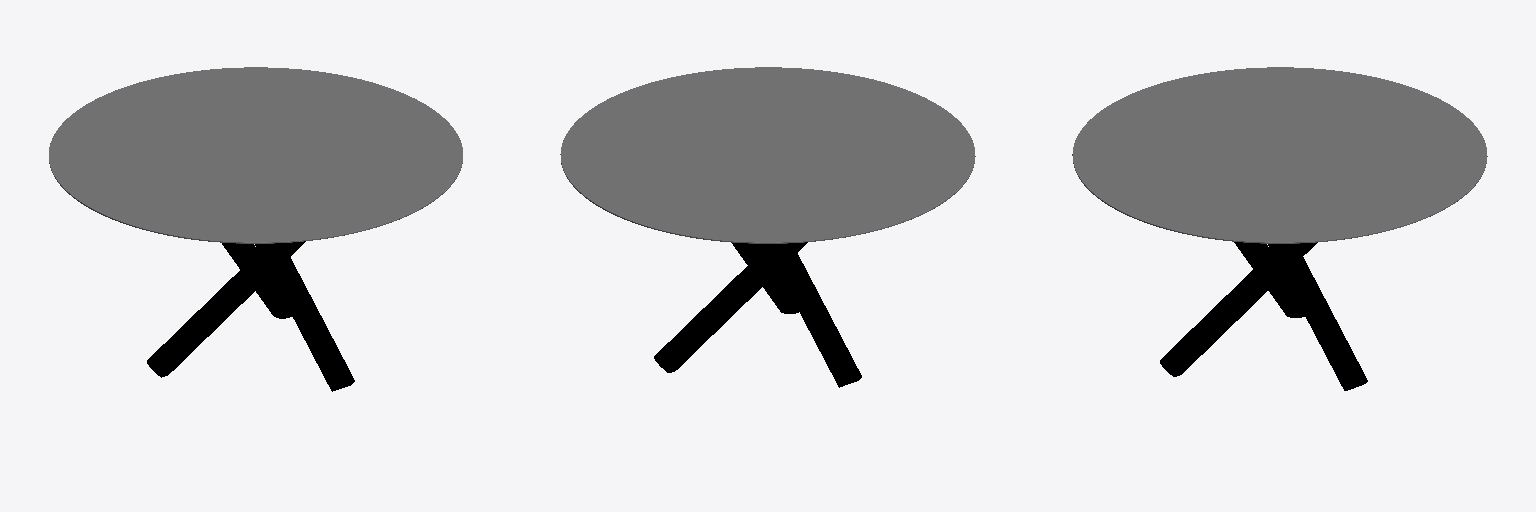
File: table.obj
The picture shows the model from 3 angles: view 1: azimuth 30°, elevation 25°; view 2: azimuth 150°, elevation 25°; view 3: azimuth 270°, elevation 25°; orthographic projection.
Parts seen in each view (by area): view 1: Circle012_Mesh.006, Circle005_Mesh.003, Circle003_Mesh.005, Circle004_Mesh.004; view 2: Circle012_Mesh.006, Circle004_Mesh.004, Circle005_Mesh.003, Circle003_Mesh.005; view 3: Circle012_Mesh.006, Circle003_Mesh.005, Circle004_Mesh.004, Circle005_Mesh.003.
Part boxes in pixels (x1,y1,x2,y2): Circle012_Mesh.006: (49, 67, 462, 243); Circle005_Mesh.003: (147, 241, 305, 377); Circle003_Mesh.005: (255, 244, 354, 391); Circle004_Mesh.004: (222, 243, 291, 318); Circle012_Mesh.006: (560, 67, 975, 243); Circle004_Mesh.004: (654, 242, 807, 372); Circle005_Mesh.003: (764, 244, 861, 387); Circle003_Mesh.005: (732, 243, 798, 313); Circle012_Mesh.006: (1072, 67, 1487, 243); Circle003_Mesh.005: (1160, 242, 1317, 376); Circle004_Mesh.004: (1268, 244, 1367, 390); Circle005_Mesh.003: (1234, 242, 1304, 317).
Size of the model in its own units: 4.81 by 2.58 by 4.81.